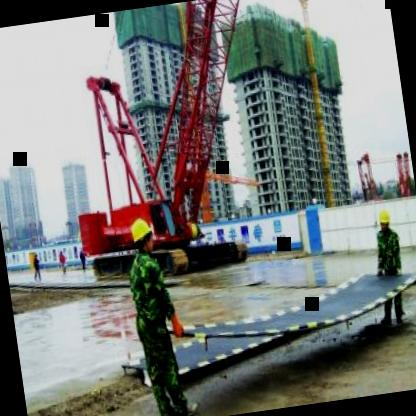helmet: (127, 212, 157, 258), (374, 203, 394, 232)
